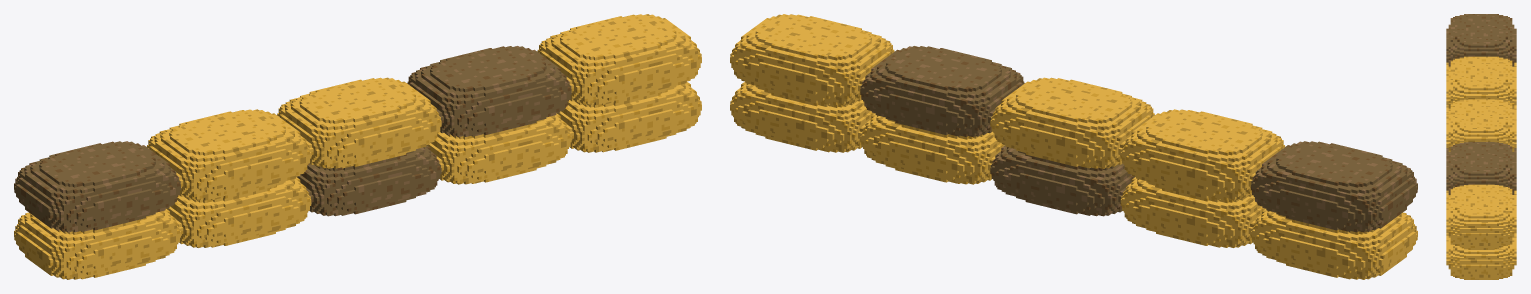
File: sandbox_wall_3.obj
3 views of the same model, side by side, from view 1: azimuth 30°, elevation 25°; view 2: azimuth 150°, elevation 25°; view 3: azimuth 270°, elevation 25° (orthographic). The views are drawn at different scales.
Bounding box in the file's own units: 23 × 3.2 × 3.2.
1 material, 1 textured.
